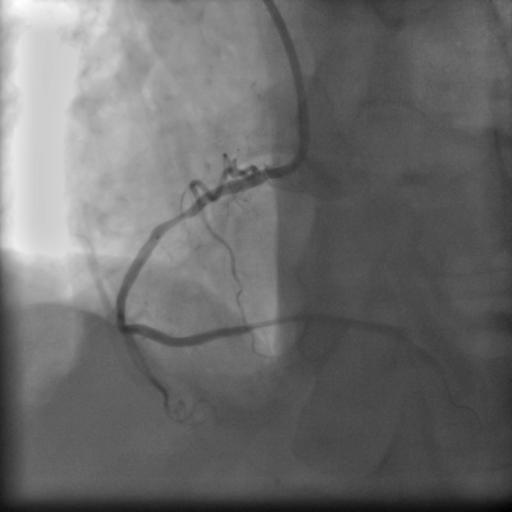Stenosis: (162, 203, 201, 224)
